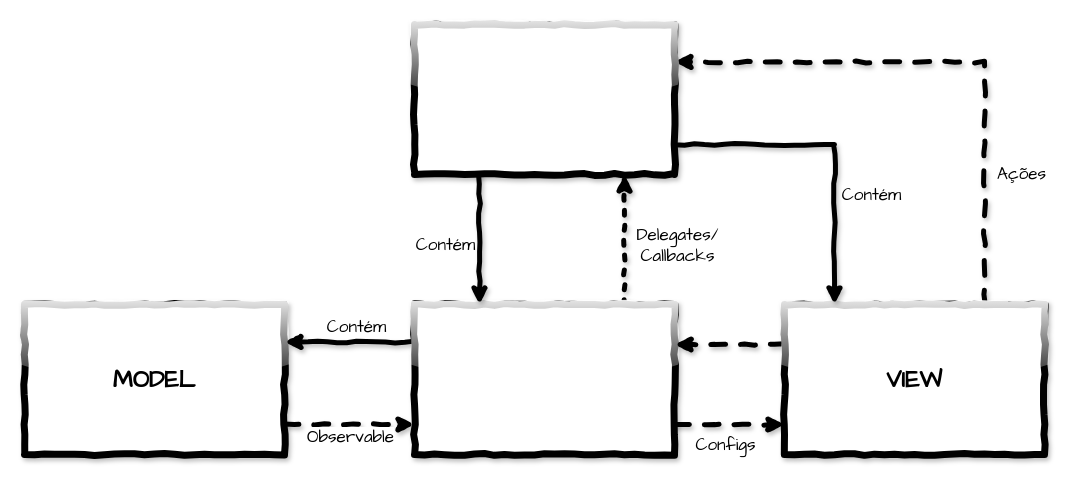
Image size: 1071x482. Some labels were removed from this diagram. The centre of each missing label's shape, as x and y in pixels:
"VIEW CONTROLLER" belongs at point 545,100.
"VIEW MODEL" belongs at point 545,380.
